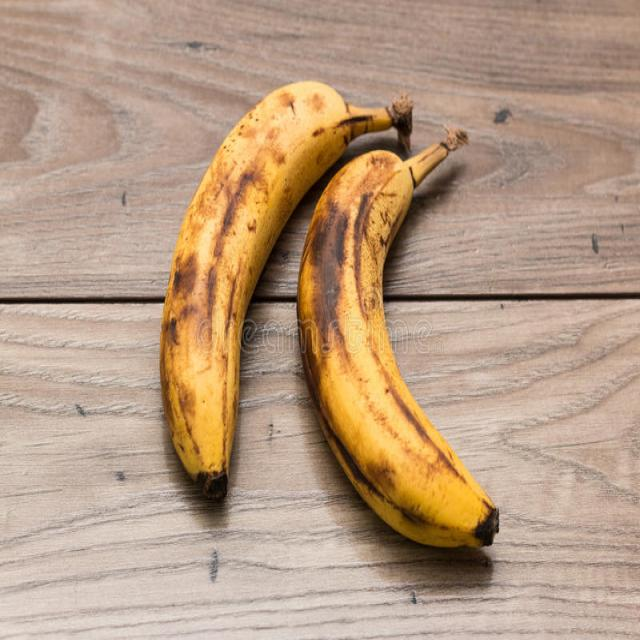Banana: (299, 124, 502, 564), (161, 76, 347, 495)
